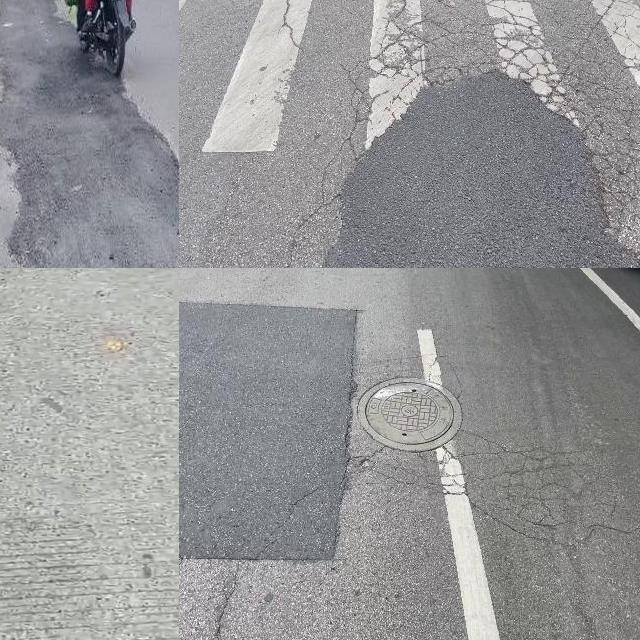Lubang: (360, 381, 464, 452)
Sambungan: (0, 268, 179, 640), (323, 74, 640, 268), (0, 0, 179, 268), (179, 298, 358, 565)
